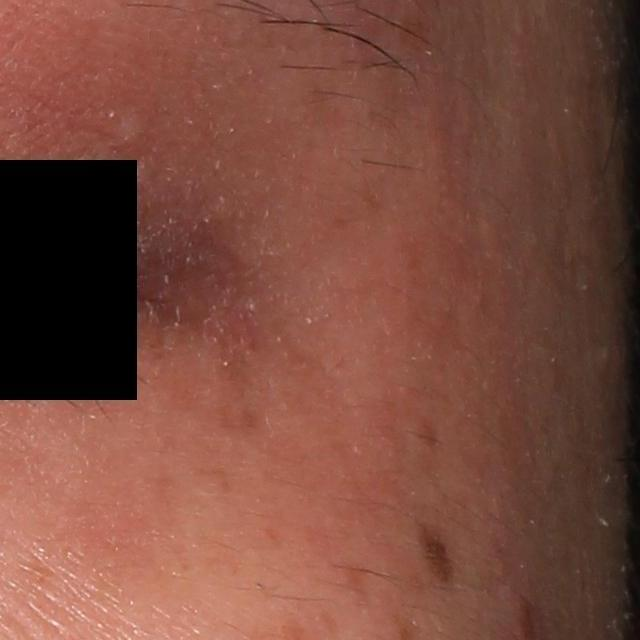melasma: (211, 344, 269, 433), (334, 554, 372, 607)
nevus: (414, 529, 454, 586)
